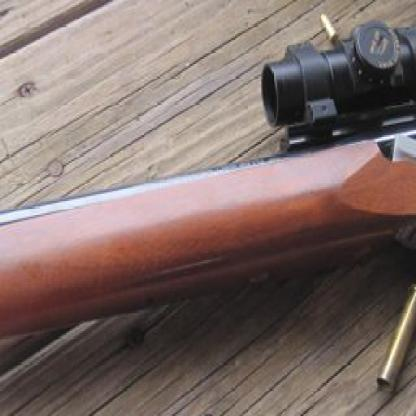gun: (0, 5, 415, 414)
